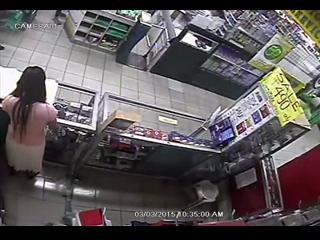Normal: (0, 66, 59, 179)
